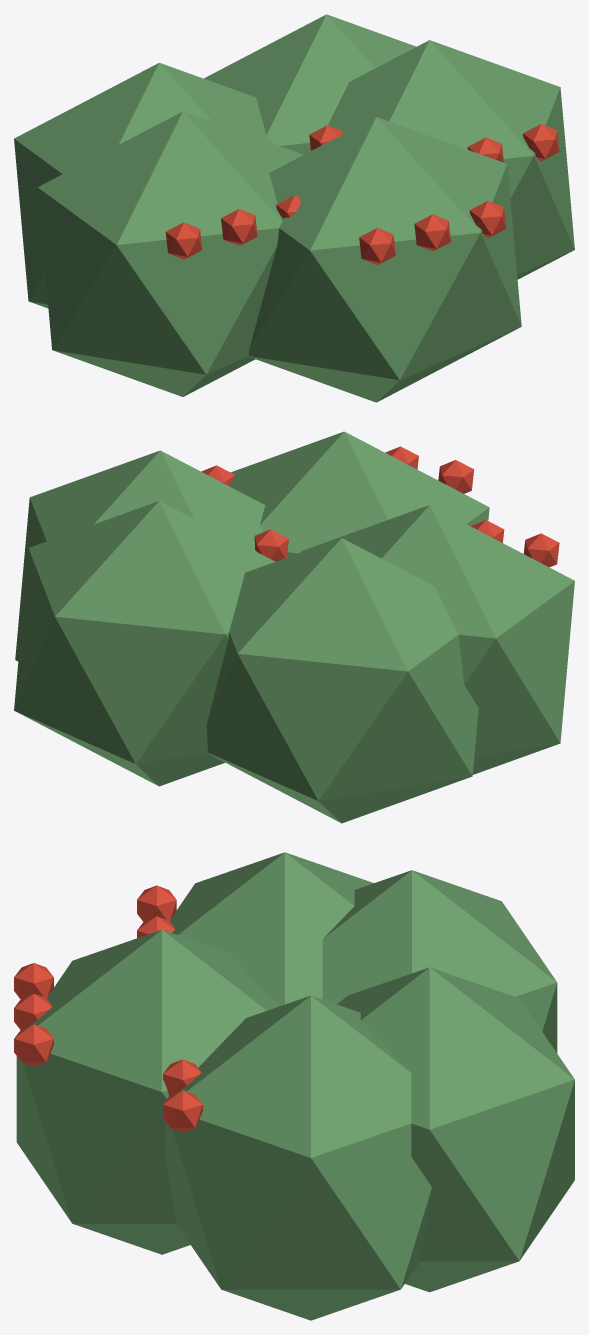
The model's file is nature_berry_bush.glb.
3 views of the same model, one above another, from view 1: azimuth 30°, elevation 25°; view 2: azimuth 150°, elevation 25°; view 3: azimuth 270°, elevation 25° (orthographic). The views are drawn at different scales.
Parts seen in each view (by area): view 1: nature_berry_bush; view 2: nature_berry_bush; view 3: nature_berry_bush.
Boxes of the visible parts, box(x1,y1,x2,y2) form: nature_berry_bush: box(14, 14, 574, 402); nature_berry_bush: box(14, 431, 574, 823); nature_berry_bush: box(14, 852, 574, 1320).
Bounding box in the file's own units: 1.6 × 0.84 × 1.31.
